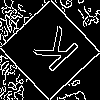K: (24, 25, 81, 81)
